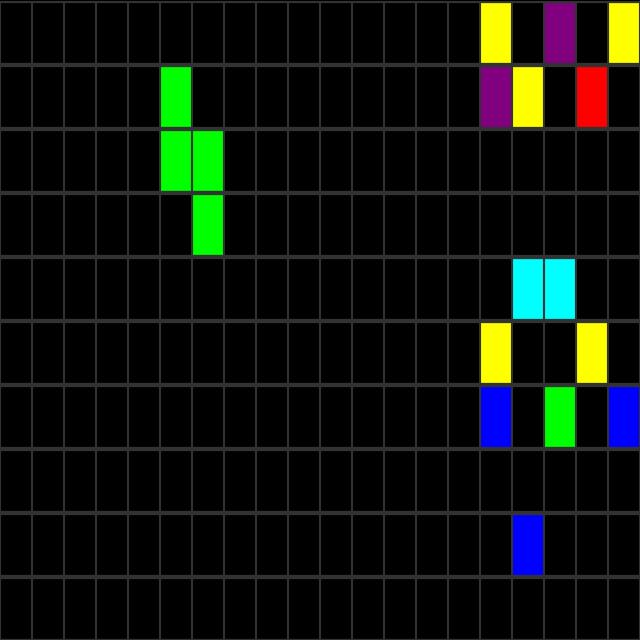Tetrimino_T: (162, 58, 224, 254)
